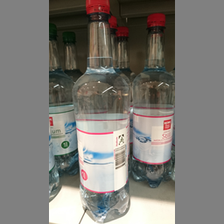water: (73, 1, 131, 221), (130, 12, 173, 189)
